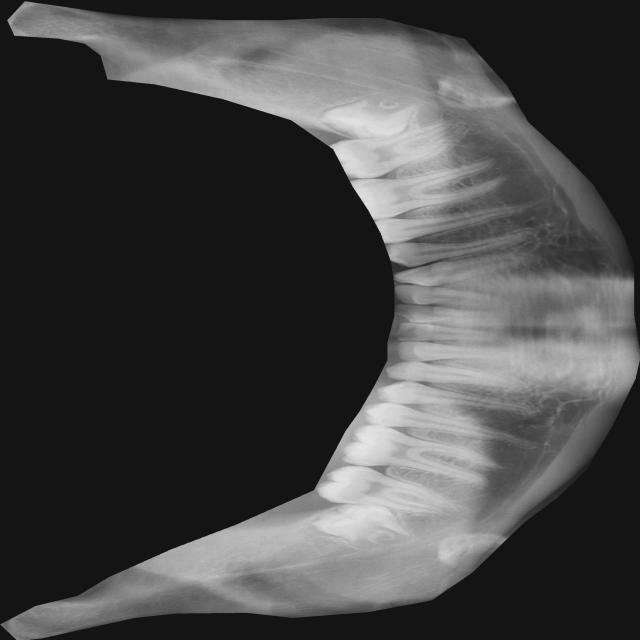mandibula: (0, 0, 640, 640)
